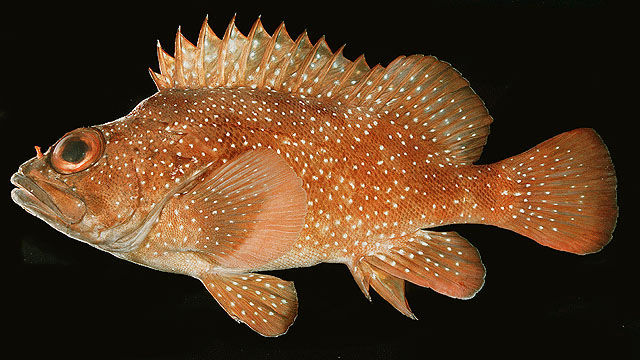fish: (9, 14, 620, 338)
